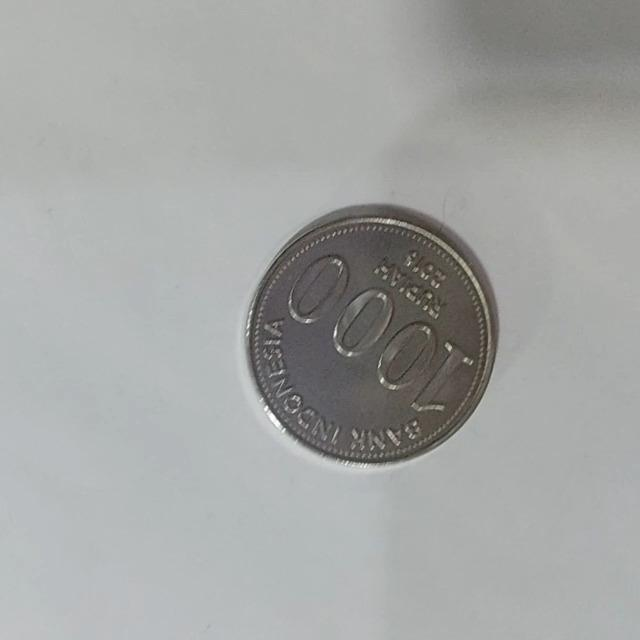Rp100: (242, 201, 499, 468)
